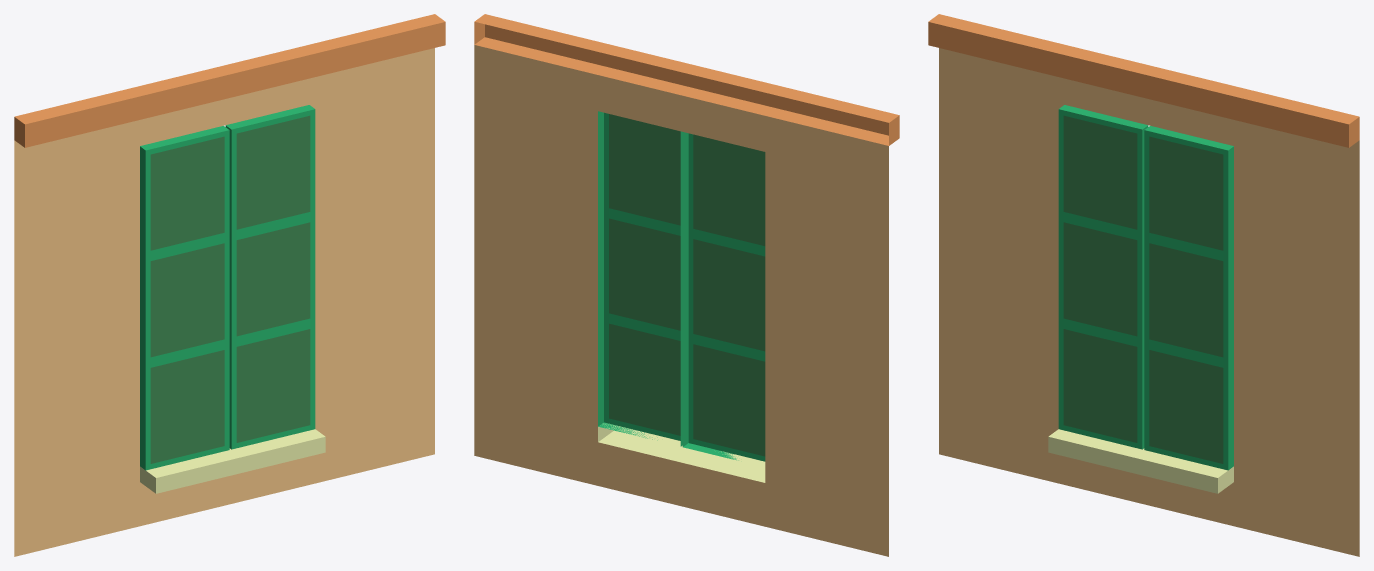
The model's file is WindowClosed.fbx.
The picture shows the model from 3 angles, left to right: view 1: azimuth 30°, elevation 25°; view 2: azimuth 150°, elevation 25°; view 3: azimuth 330°, elevation 25°; orthographic projection.
Parts seen in each view (by area): view 1: WindowClosed; view 2: WindowClosed; view 3: WindowClosed.
Part boxes in pixels (x1,y1,x2,y2): WindowClosed: (14,14,445,556); WindowClosed: (474,14,899,556); WindowClosed: (928,14,1359,556).
Size of the model in its own units: 200 by 200 by 13.38.
